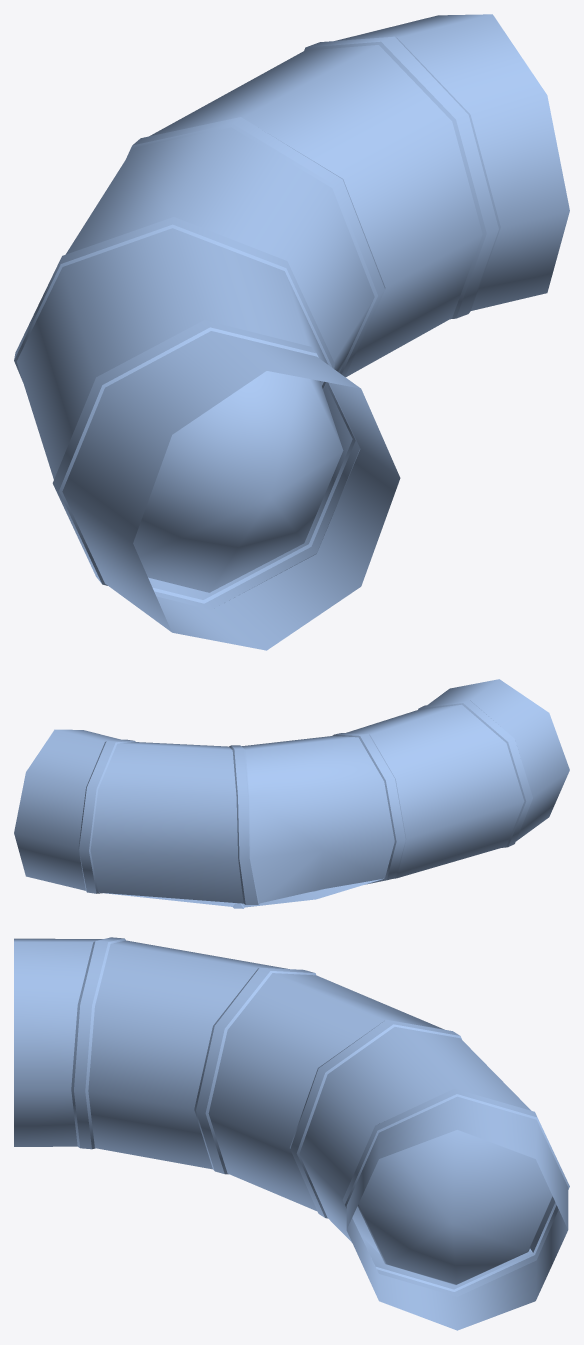
The model's file is PipeSmall_BrokenStepped_Bent_02.fbx.
3 views of the same model, one above another, from view 1: azimuth 30°, elevation 25°; view 2: azimuth 150°, elevation 25°; view 3: azimuth 270°, elevation 25° (orthographic). The views are drawn at different scales.
Parts seen in each view (by area): view 1: PipeSmall_BrokenStepped_Bent_02.001; view 2: PipeSmall_BrokenStepped_Bent_02.001; view 3: PipeSmall_BrokenStepped_Bent_02.001.
Boxes of the visible parts, x1,y1,x2,y2 form: PipeSmall_BrokenStepped_Bent_02.001: (14,14,569,650); PipeSmall_BrokenStepped_Bent_02.001: (14,679,569,908); PipeSmall_BrokenStepped_Bent_02.001: (14,937,569,1330).
Size of the model in its own units: 0.2508 by 0.1016 by 0.2508.
